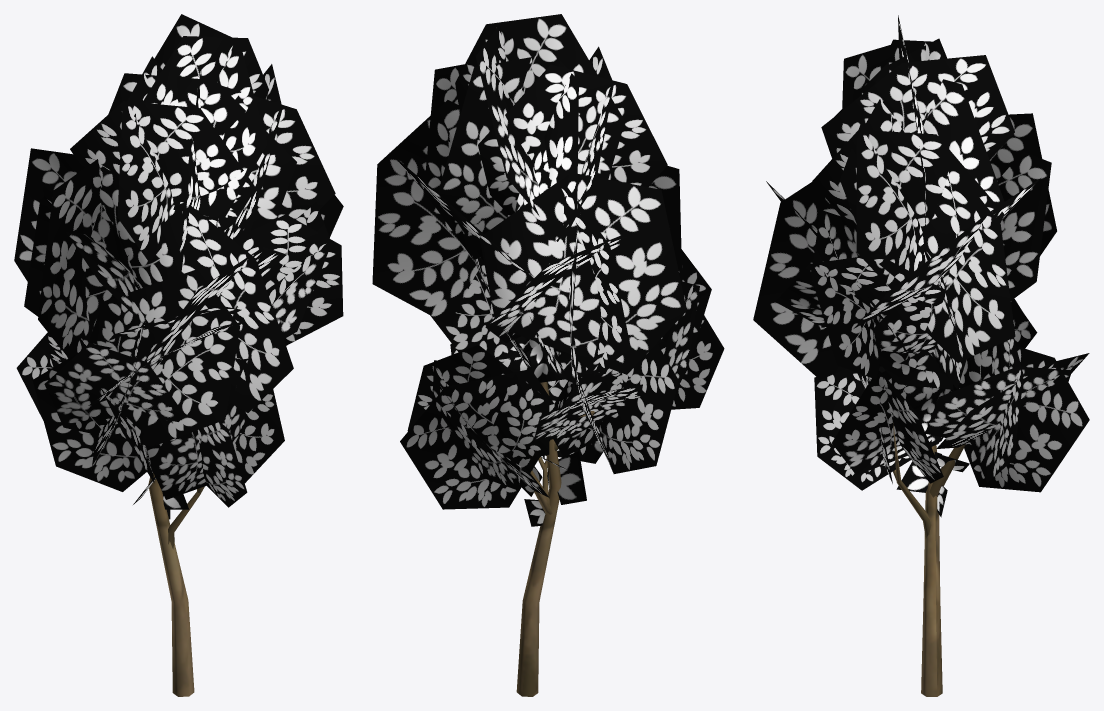
File: P_OakSapling2.obj
3 views of the same model, side by side, from view 1: azimuth 30°, elevation 25°; view 2: azimuth 150°, elevation 25°; view 3: azimuth 270°, elevation 25° (orthographic).
Bounding box in the file's own units: 2.78 × 6.16 × 2.8.
